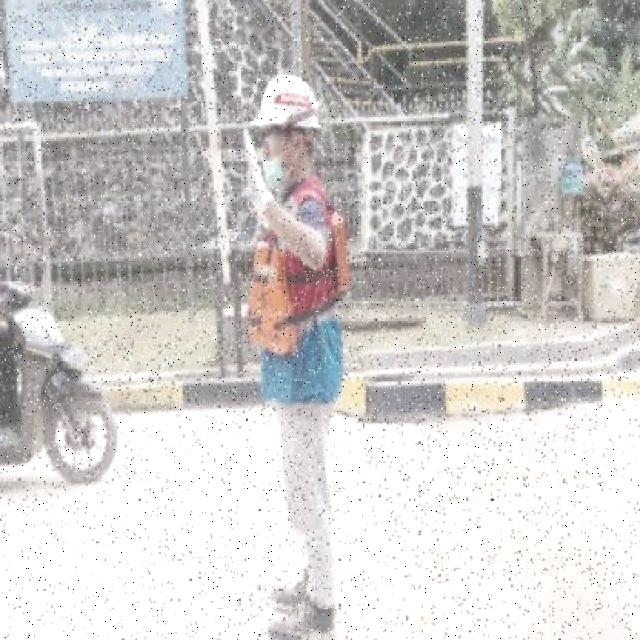Boots: (262, 598, 341, 637), (266, 572, 316, 612)
Gloves: (236, 128, 272, 227)
Helmet: (249, 65, 323, 133)
Mask: (240, 211, 357, 354)
